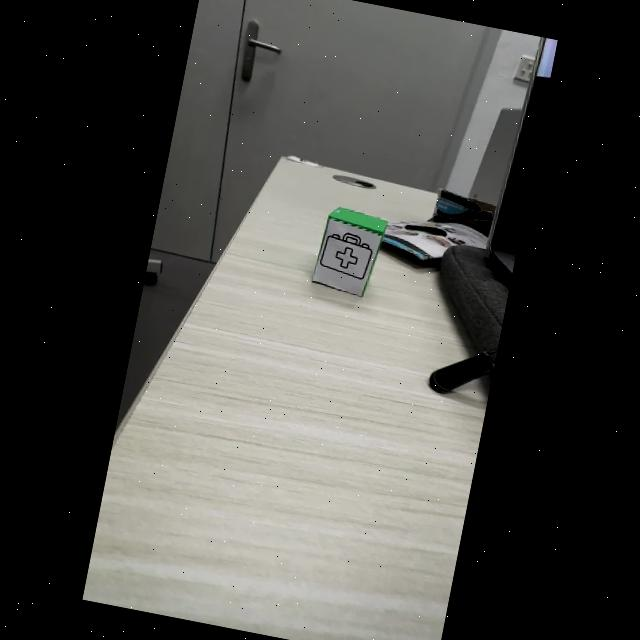Medkit: (320, 233, 371, 280)
